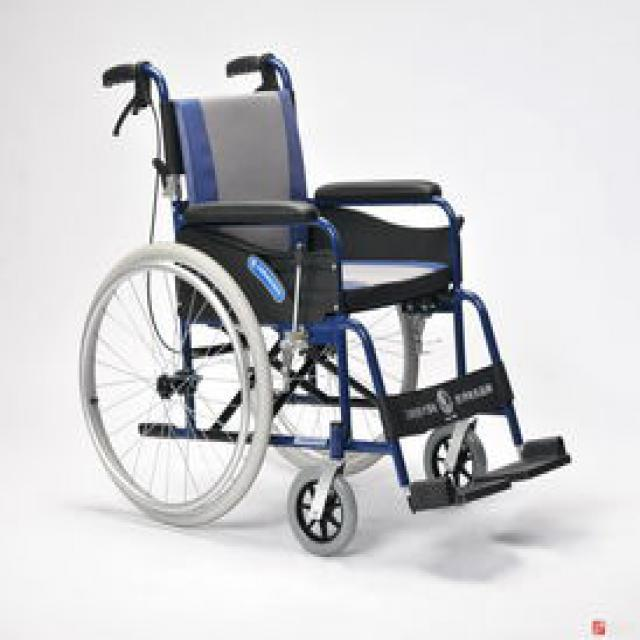wheelchair: (70, 45, 582, 558)
